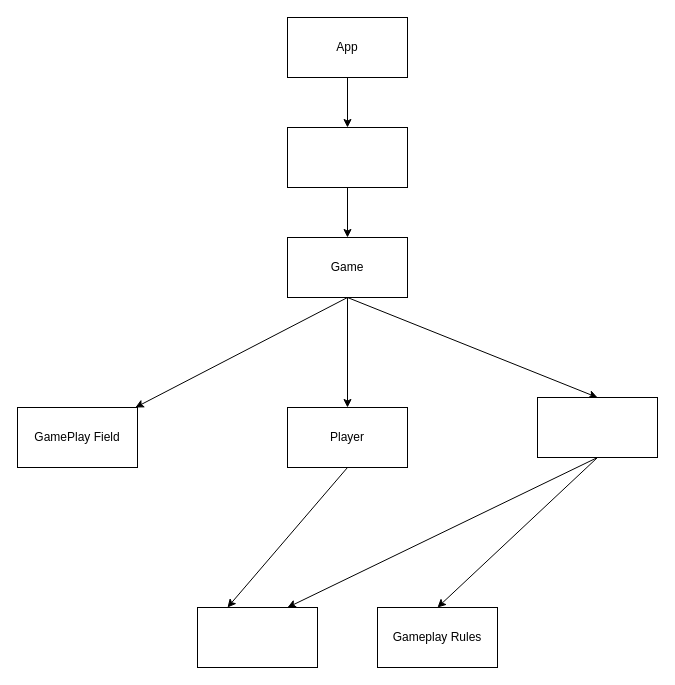
This 675x685 diagram has some shape labels left out. Each missing label, with the centre of its shape:
Card: the point at 257,637
PlayerBot: the point at 597,427
Screen: the point at 347,157
